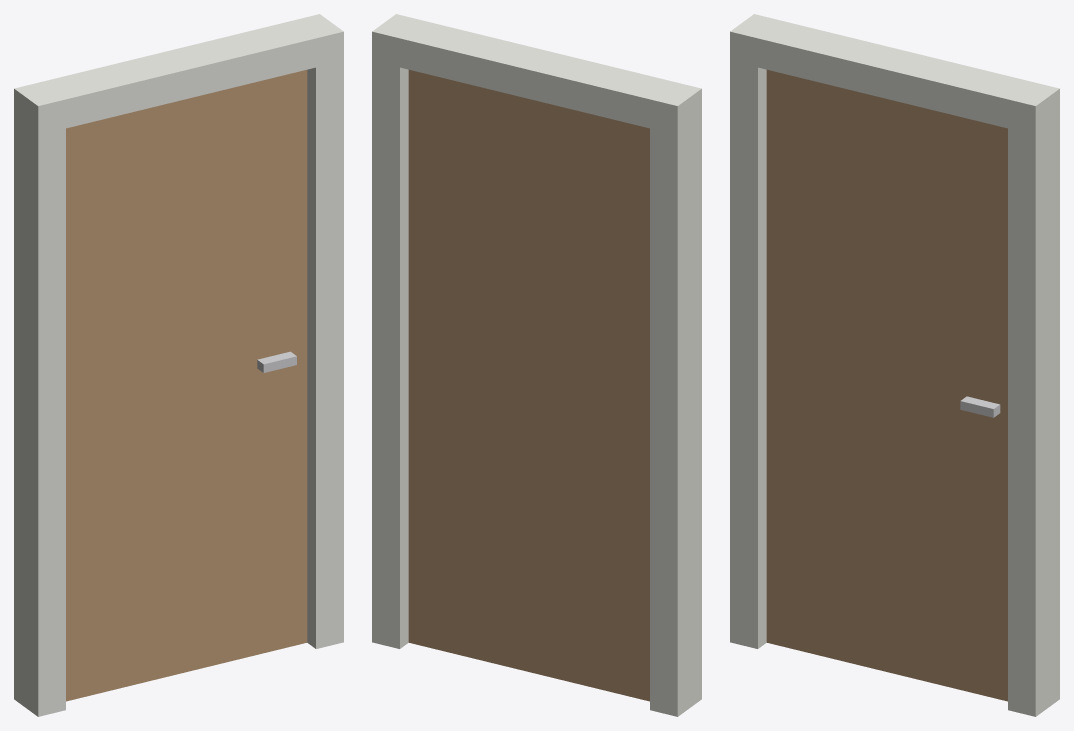
File: export_extras_mismatch.gltf
3 renders of one model, left to right at view 1: azimuth 30°, elevation 25°; view 2: azimuth 150°, elevation 25°; view 3: azimuth 330°, elevation 25°, orthographic.
Parts seen in each view (by area): view 1: DoorPanel, DoorFrame, DoorHandle; view 2: DoorPanel, DoorFrame; view 3: DoorPanel, DoorFrame, DoorHandle.
Part boxes in pixels (box(x1,y1,x2,y2)): DoorPanel: box(66, 69, 307, 701); DoorFrame: box(14, 14, 343, 716); DoorHandle: box(257, 351, 296, 372); DoorPanel: box(408, 69, 649, 701); DoorFrame: box(372, 14, 701, 716); DoorPanel: box(766, 69, 1007, 701); DoorFrame: box(730, 14, 1059, 716); DoorHandle: box(960, 396, 1000, 417).
Size of the model in its own units: 1.1 by 2.1 by 0.15.
